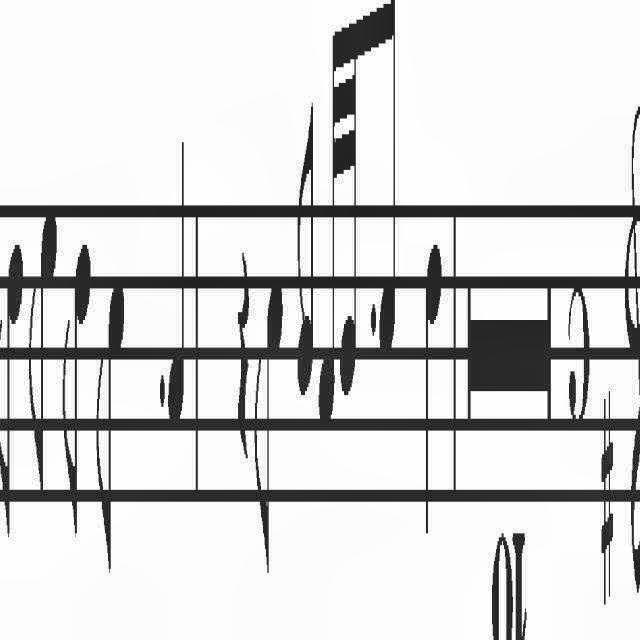Bass-clef: (622, 63, 640, 601)
Diez: (595, 388, 619, 636)
Eighth-note: (26, 167, 62, 517), (254, 240, 288, 602), (94, 236, 130, 574), (376, 1, 404, 403), (62, 205, 90, 568), (0, 205, 26, 577), (292, 76, 316, 434)
Quarter-note: (418, 224, 446, 564), (168, 116, 188, 460)
Quarter-rest: (228, 164, 252, 504)
